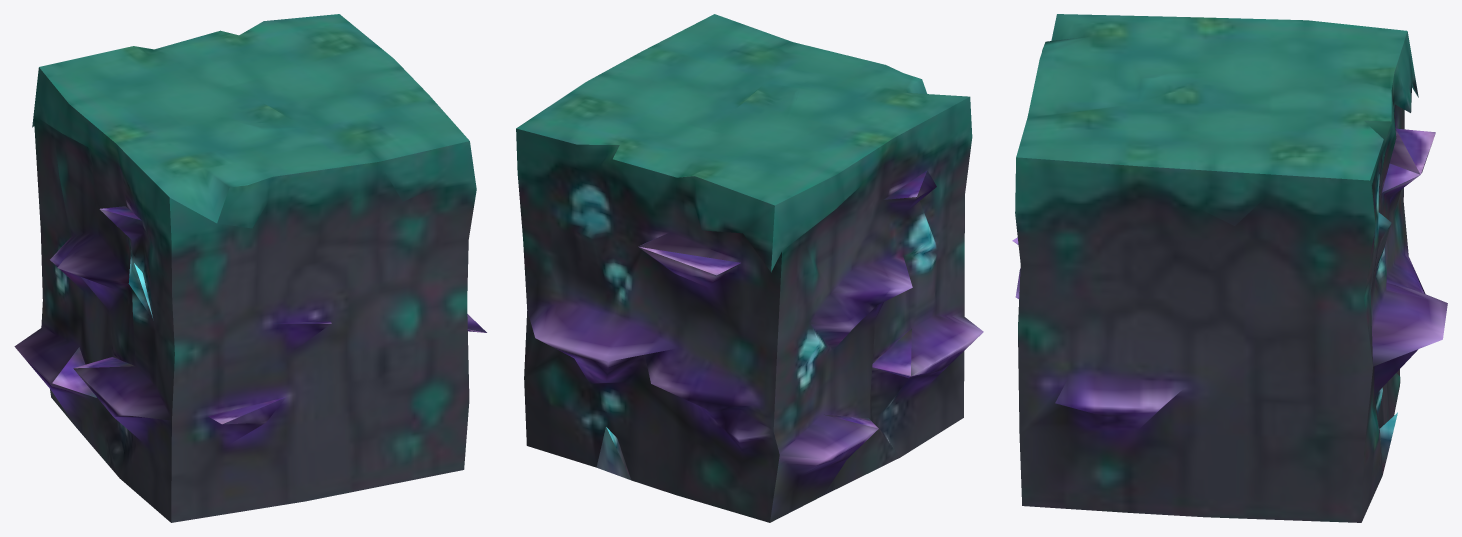
The model's file is b_mycelium_mur_2.glb.
3 views of the same model, side by side, from view 1: azimuth 30°, elevation 25°; view 2: azimuth 150°, elevation 25°; view 3: azimuth 270°, elevation 25° (orthographic). The views are drawn at different scales.
Visible parts, largest first — view 1: geometry_0; view 2: geometry_0; view 3: geometry_0.
Part boxes in pixels (left/top/right/bottom): geometry_0: left=14, top=14, right=486, bottom=522; geometry_0: left=516, top=14, right=983, bottom=522; geometry_0: left=1012, top=14, right=1447, bottom=522.
Size of the model in its own units: 1 by 0.8985 by 1.
1 material, 1 textured.
